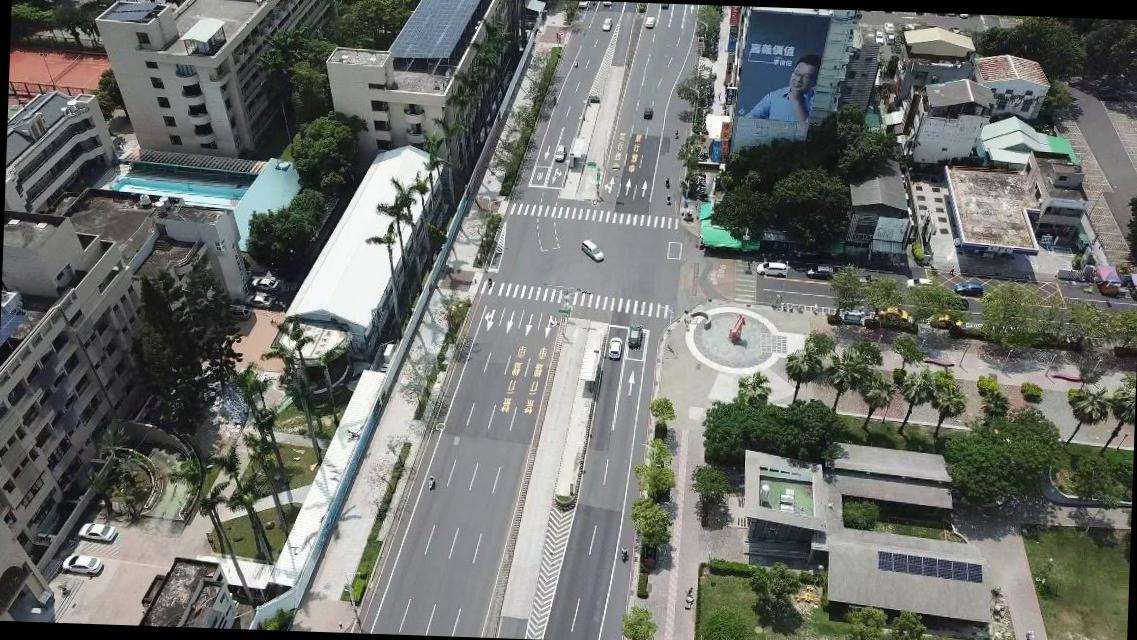vehicle: (58, 553, 104, 579), (73, 522, 117, 544), (579, 238, 604, 264), (921, 312, 960, 328), (244, 274, 278, 292), (756, 260, 786, 278), (242, 292, 274, 308), (857, 270, 886, 286), (626, 325, 643, 351), (875, 306, 906, 320), (605, 335, 622, 360), (807, 264, 837, 278), (954, 282, 982, 296), (905, 278, 932, 290), (229, 306, 250, 319), (644, 14, 657, 30), (554, 144, 564, 164), (600, 16, 611, 31), (642, 105, 654, 118)
